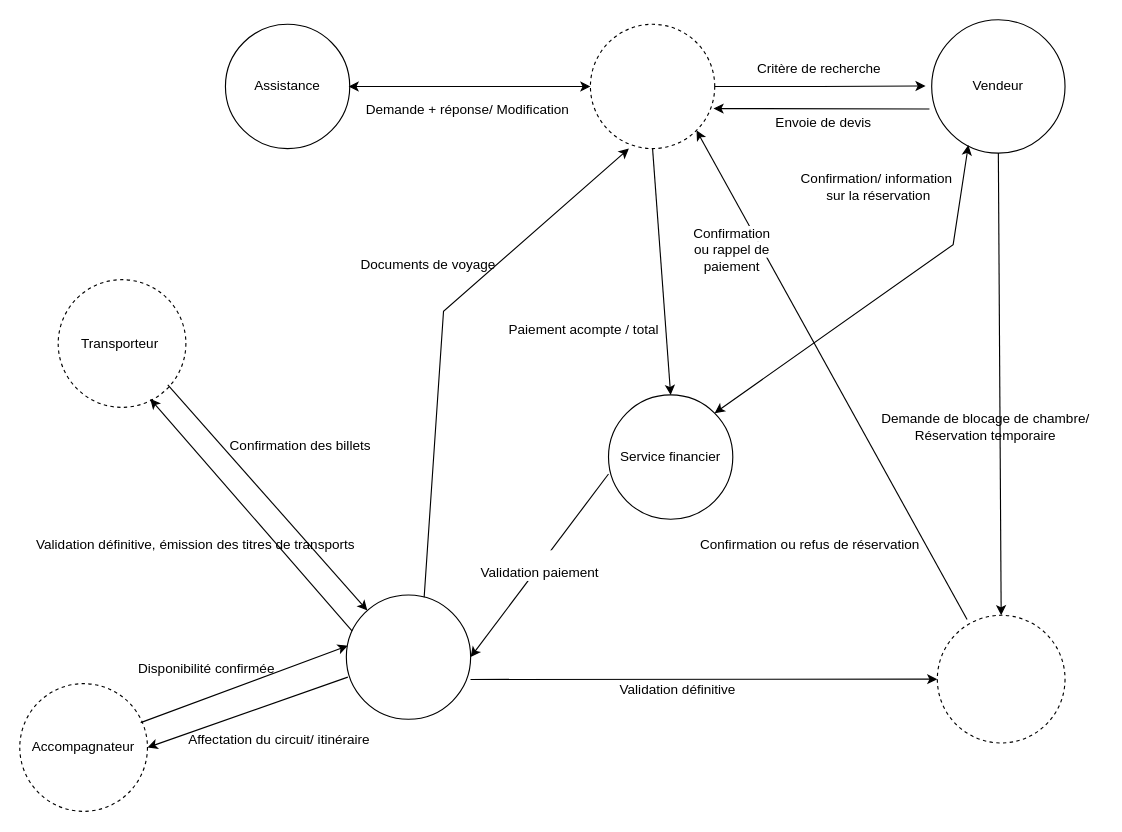
Some shapes in this 1122 by 832 pixel diagram are drawn without their labels. The shapes that lost their labels are listed below. From the top down, each one's centre as x and y in pixels, then its label:
(652,86): Client
(408,656): Organisateur du voyage
(1000,678): Hôtel
